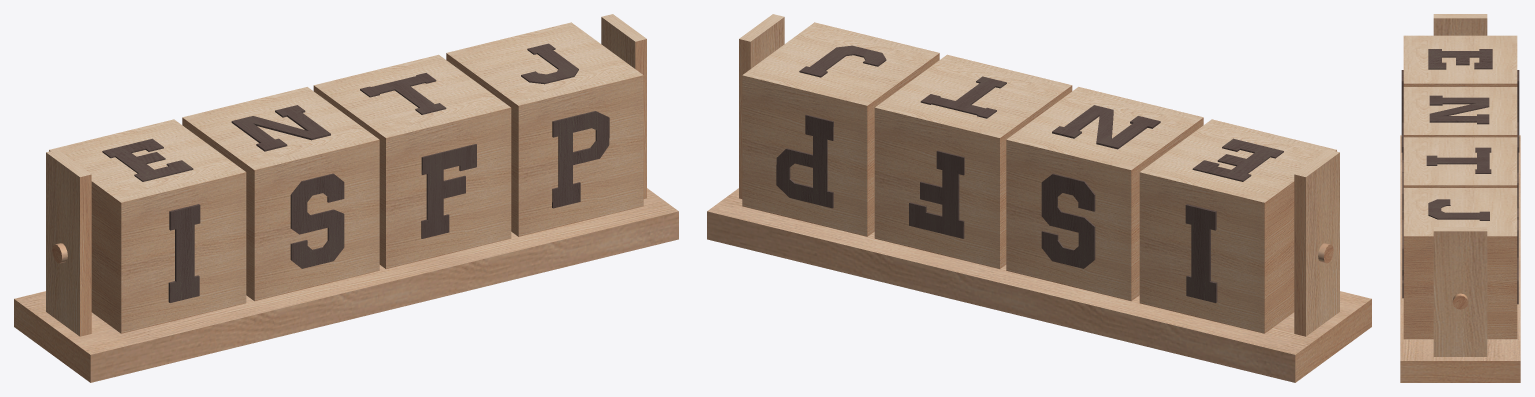
The model's file is Doll_OB_Mbticube_001.FBX.
3 views of the same model, side by side, from view 1: azimuth 30°, elevation 25°; view 2: azimuth 150°, elevation 25°; view 3: azimuth 270°, elevation 25° (orthographic). The views are drawn at different scales.
Parts seen in each view (by area): view 1: Doll_OB_Mbticube_001, Doll_OB_Mbticube_001_EI, Doll_OB_Mbticube_001_NS, Doll_OB_Mbticube_001_JP, Doll_OB_Mbticube_001_TF; view 2: Doll_OB_Mbticube_001, Doll_OB_Mbticube_001_EI, Doll_OB_Mbticube_001_NS, Doll_OB_Mbticube_001_JP, Doll_OB_Mbticube_001_TF; view 3: Doll_OB_Mbticube_001, Doll_OB_Mbticube_001_JP, Doll_OB_Mbticube_001_EI, Doll_OB_Mbticube_001_NS, Doll_OB_Mbticube_001_TF.
Boxes of the visible parts, left/top/right/bottom form: Doll_OB_Mbticube_001: left=14, top=14, right=678, bottom=382; Doll_OB_Mbticube_001_EI: left=49, top=119, right=246, bottom=333; Doll_OB_Mbticube_001_NS: left=182, top=87, right=379, bottom=301; Doll_OB_Mbticube_001_JP: left=446, top=22, right=643, bottom=236; Doll_OB_Mbticube_001_TF: left=313, top=54, right=511, bottom=268; Doll_OB_Mbticube_001: left=707, top=14, right=1371, bottom=382; Doll_OB_Mbticube_001_EI: left=1139, top=119, right=1336, bottom=333; Doll_OB_Mbticube_001_NS: left=1006, top=87, right=1203, bottom=301; Doll_OB_Mbticube_001_JP: left=742, top=22, right=939, bottom=236; Doll_OB_Mbticube_001_TF: left=874, top=54, right=1072, bottom=268; Doll_OB_Mbticube_001: left=1400, top=14, right=1520, bottom=382; Doll_OB_Mbticube_001_JP: left=1402, top=188, right=1518, bottom=339; Doll_OB_Mbticube_001_EI: left=1401, top=35, right=1519, bottom=152; Doll_OB_Mbticube_001_NS: left=1402, top=87, right=1518, bottom=172; Doll_OB_Mbticube_001_TF: left=1402, top=137, right=1518, bottom=219.
Size of the model in its own units: 46.23 by 14.08 by 10.43.
